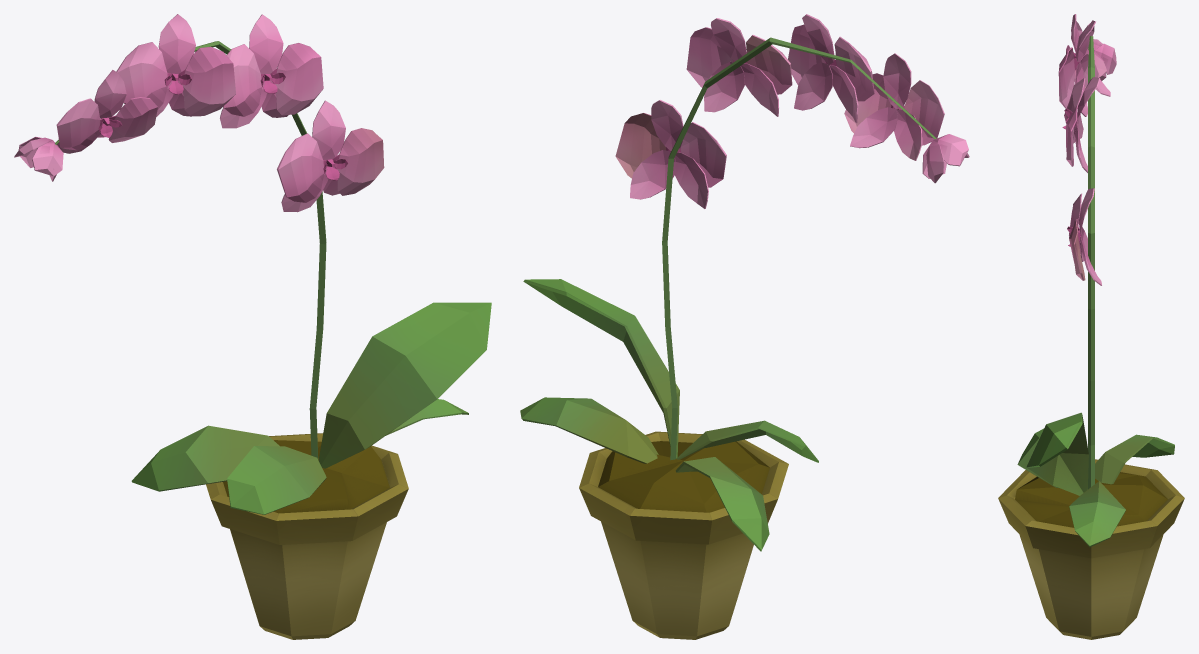
Rendered from Orchid.obj.
The picture shows the model from 3 angles, left to right: view 1: azimuth 30°, elevation 25°; view 2: azimuth 150°, elevation 25°; view 3: azimuth 270°, elevation 25°; orthographic projection. The views are drawn at different scales.
Parts seen in each view (by area): view 1: Orchid_mesh; view 2: Orchid_mesh; view 3: Orchid_mesh.
Part boxes in pixels (box(x1,y1,x2,y2)): Orchid_mesh: box(14, 14, 491, 639); Orchid_mesh: box(520, 14, 969, 639); Orchid_mesh: box(998, 14, 1184, 639).
Size of the model in its own units: 13.75 by 18.33 by 5.65.
Materials: 1 (1 with a texture image).
